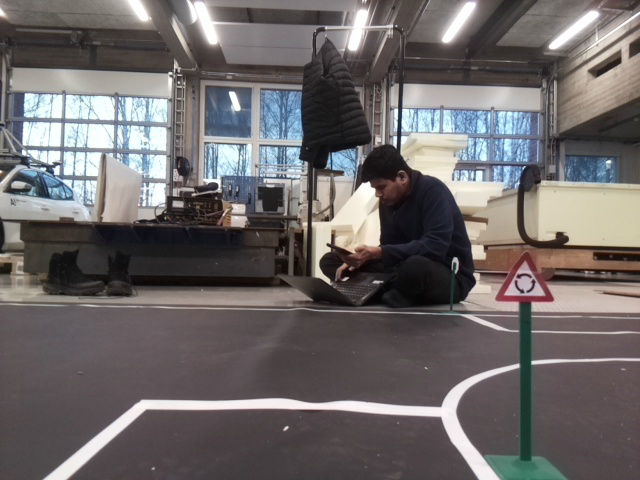Roundabout: (496, 251, 555, 300)
